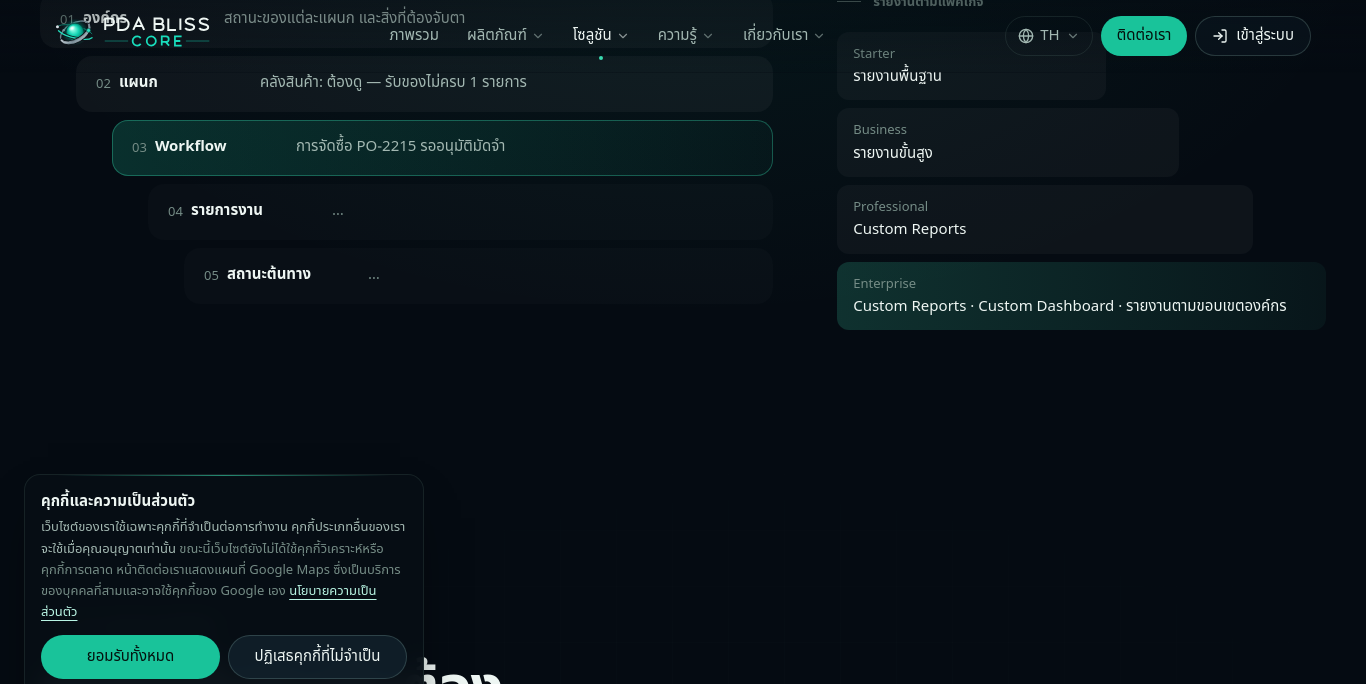
/enterprise page › drills from the organization down to the source state
The image size is (1366, 684).
(page scrolled)
Click the radio button labelled "05 สถานะต้นทาง …" at (269, 275), box 184,248 -> 773,304
(page scrolled)
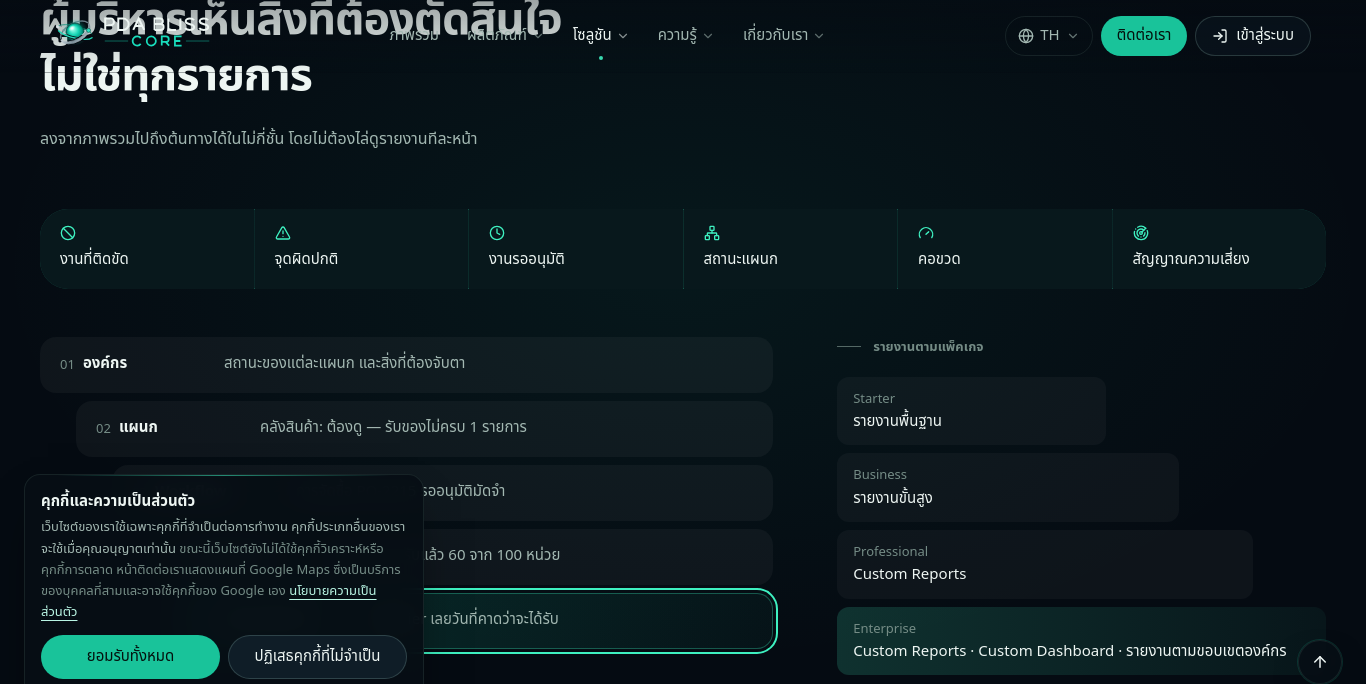
Expected: the element with id "executive" shows "Supplier เลยวันที่คาดว่าจะได้รับ", 184,593 -> 773,649
